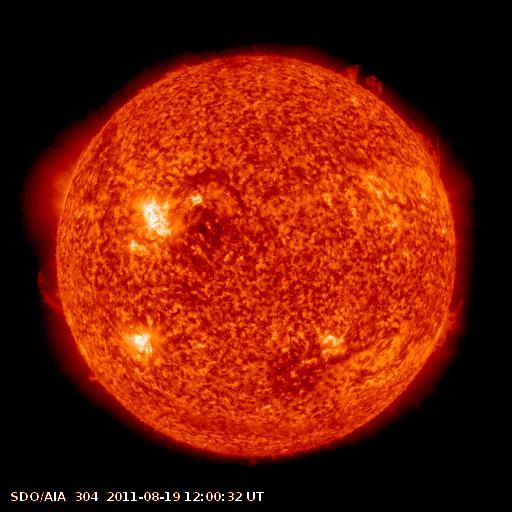prominence: (402, 115, 450, 182), (427, 288, 472, 353), (34, 264, 74, 322), (336, 55, 387, 97)
